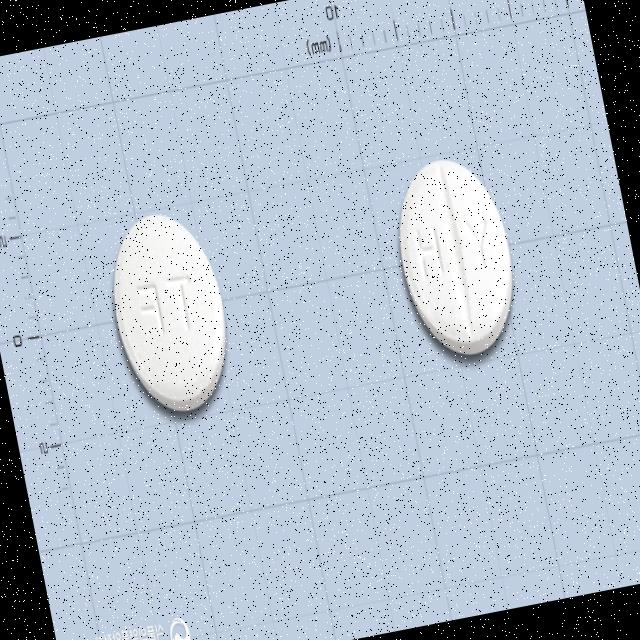Curasil: (96, 203, 242, 423), (383, 148, 529, 366)
